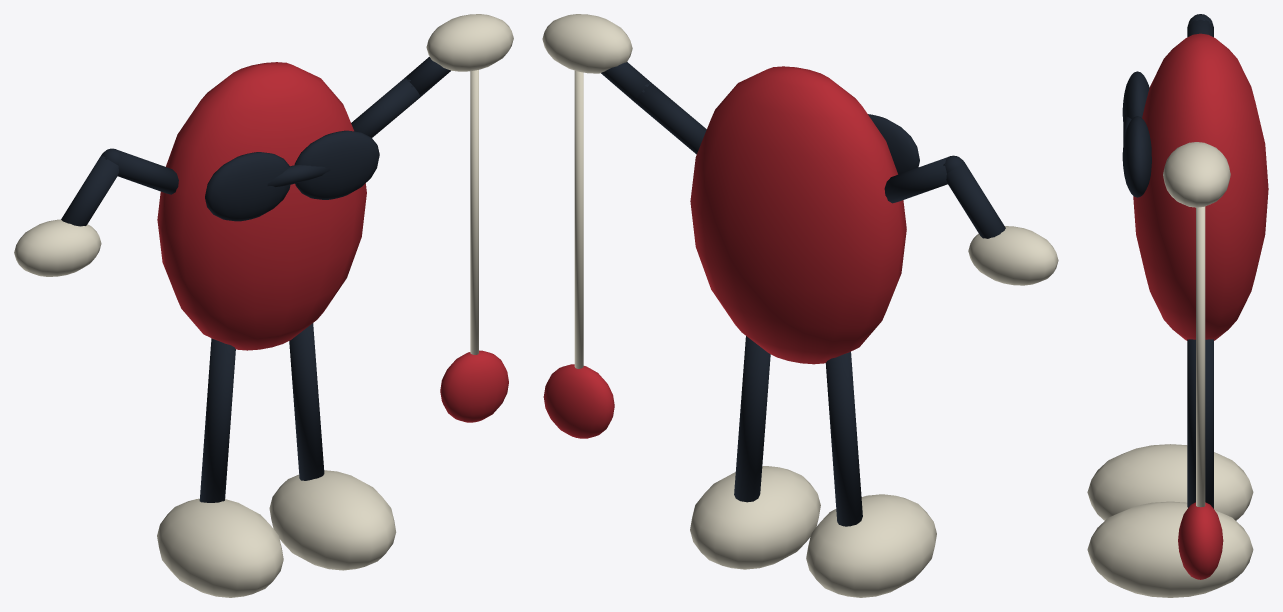
Rendered from wurstii-spot.glb.
3 renders of one model, left to right at view 1: azimuth 30°, elevation 25°; view 2: azimuth 150°, elevation 25°; view 3: azimuth 270°, elevation 25°, orthographic. The views are drawn at different scales.
Visible parts, largest first — view 1: wurstii-spot_geometry; view 2: wurstii-spot_geometry; view 3: wurstii-spot_geometry.
Boxes of the visible parts, <box> form: wurstii-spot_geometry: <box>14,14,513,597</box>; wurstii-spot_geometry: <box>542,14,1058,597</box>; wurstii-spot_geometry: <box>1087,14,1268,597</box>.
Bounding box in the file's own units: 0.54 × 0.5195 × 0.1641.
